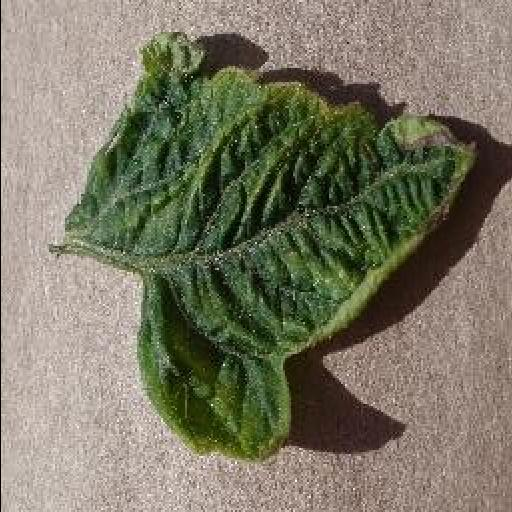disease_tomato: (66, 31, 480, 463)
